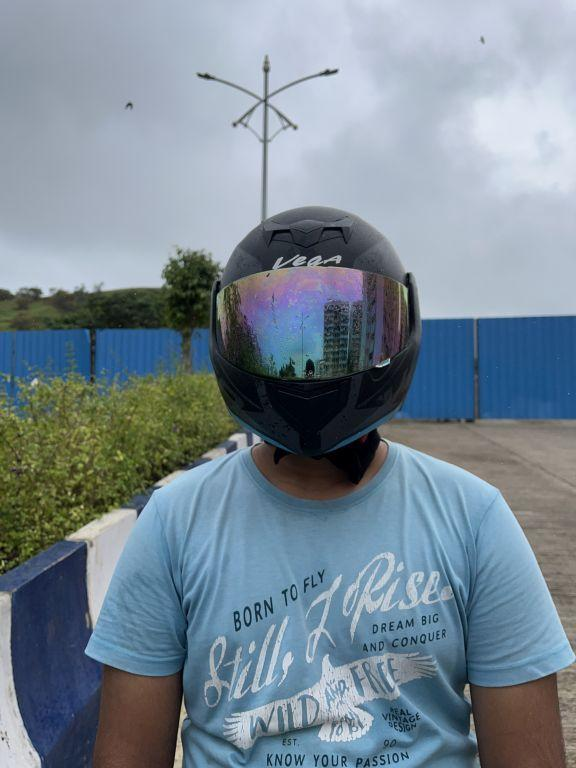helmet: (199, 194, 428, 479)
